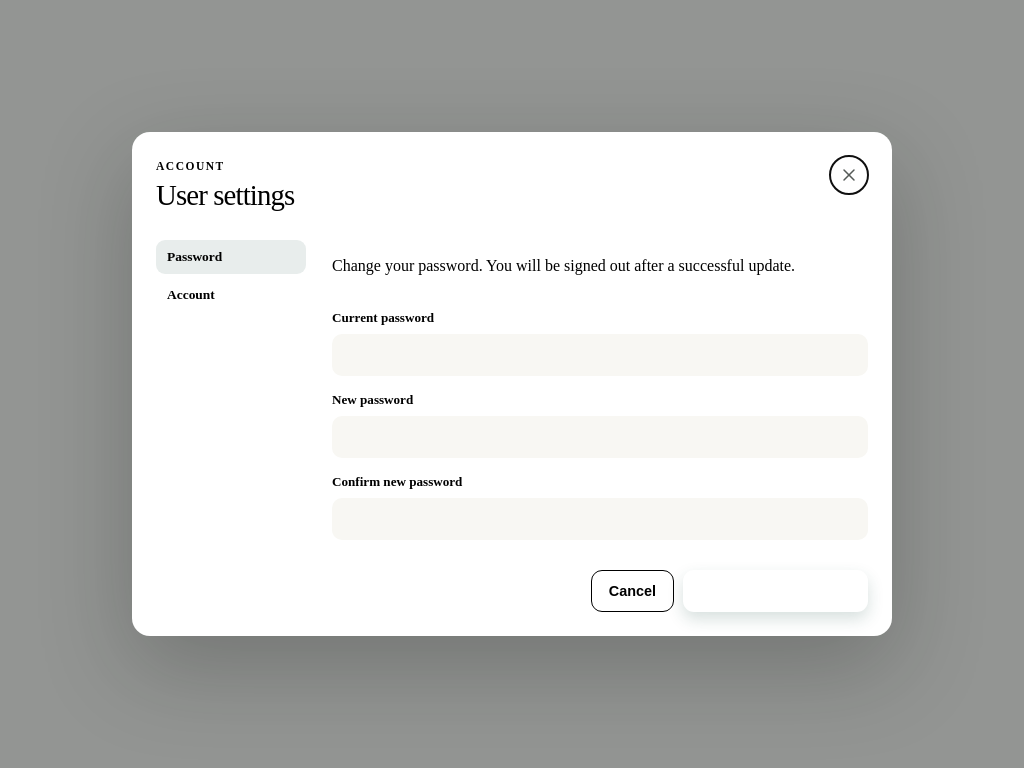
Test: UserSettingsDialog account deletion › switches to the account section and explains the retention period
Check: the text "Change your password" is shown, box [332,257,795,274]
Click the button "Account".
click(231, 295)  # box [156,278,306,312]
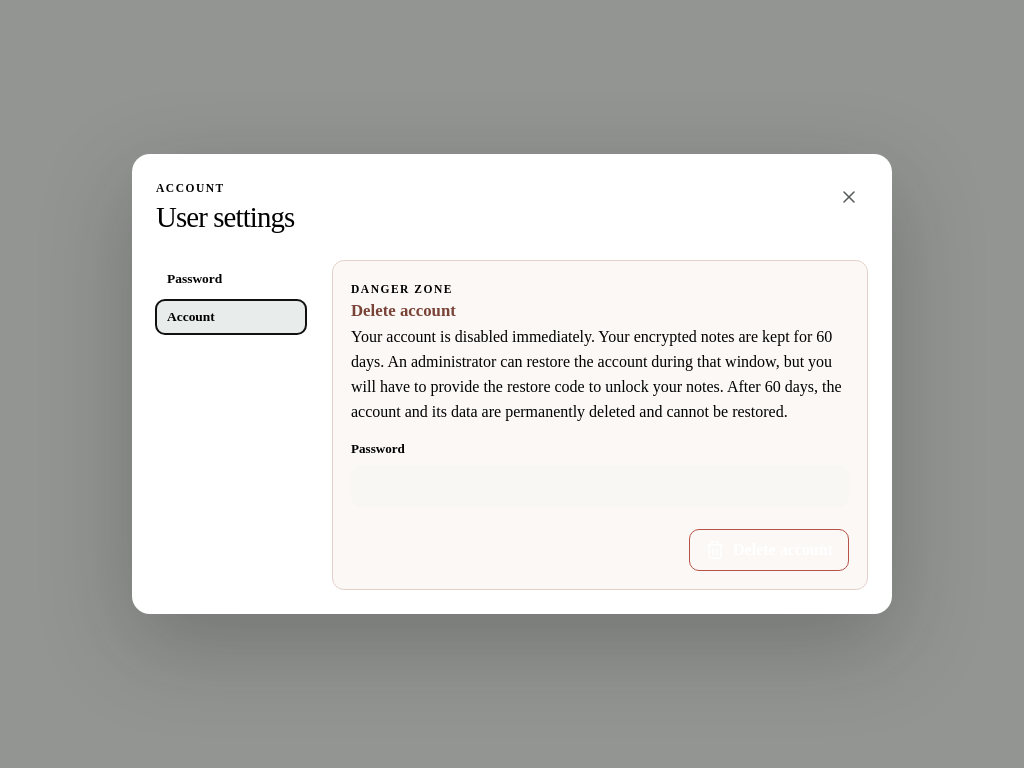
Check: the heading "Delete account" is shown, box [351,301,456,320]
Check: the text "cannot be restored" is shown, box [351,328,842,420]
